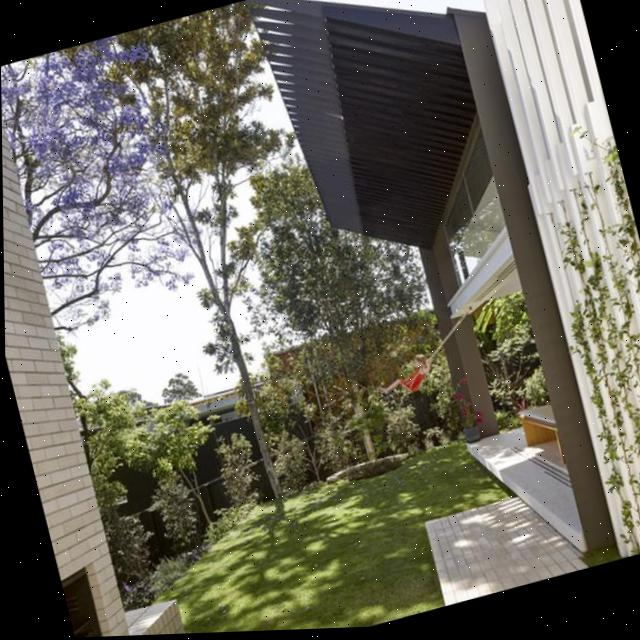building: (241, 0, 640, 624), (1, 49, 192, 640)
